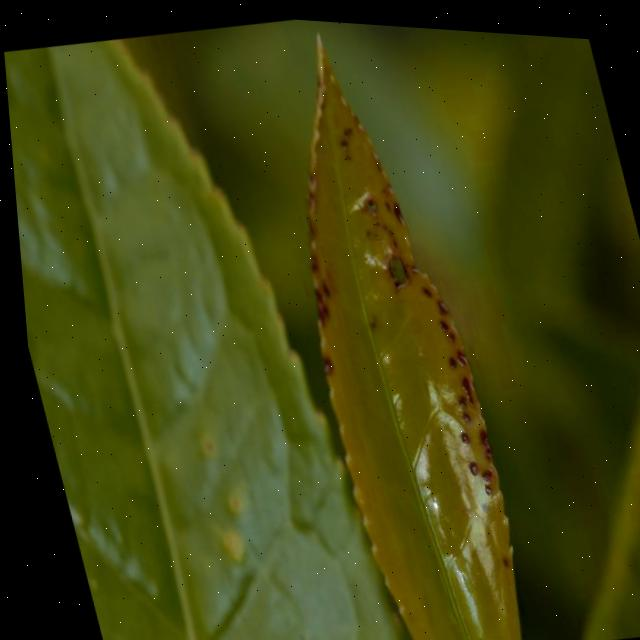Tea red scab: (268, 40, 531, 568)
